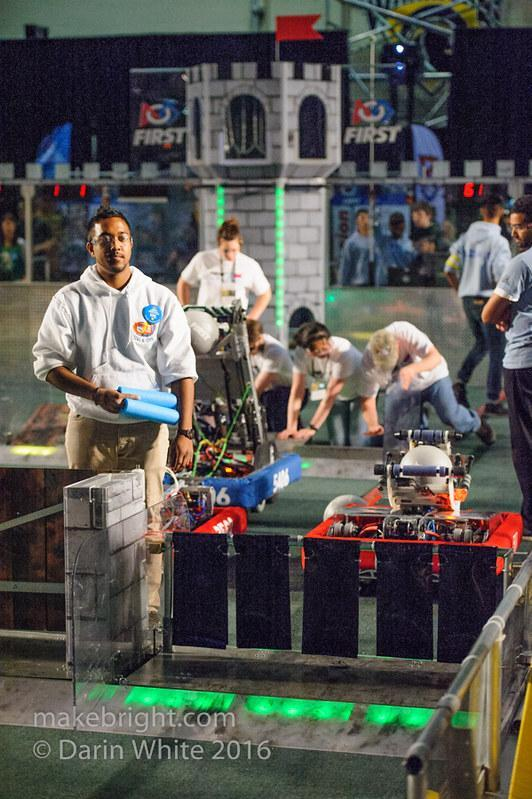robot: (287, 427, 525, 577), (144, 300, 307, 513), (112, 447, 259, 554)
